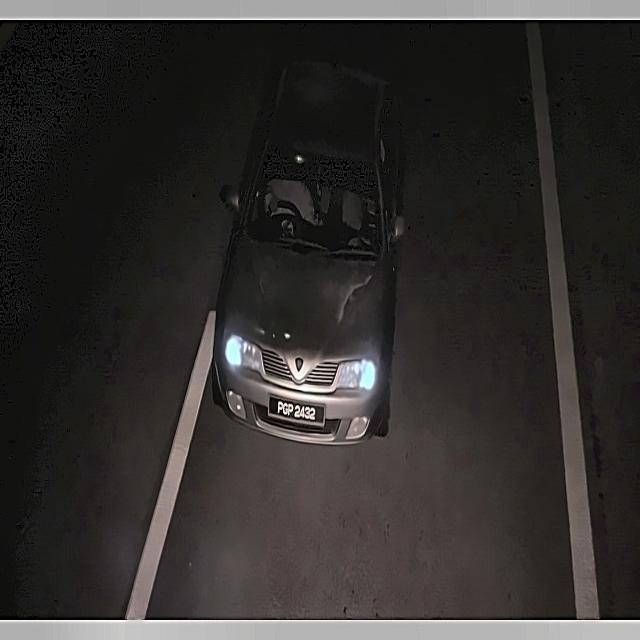car: (266, 388, 329, 430)
